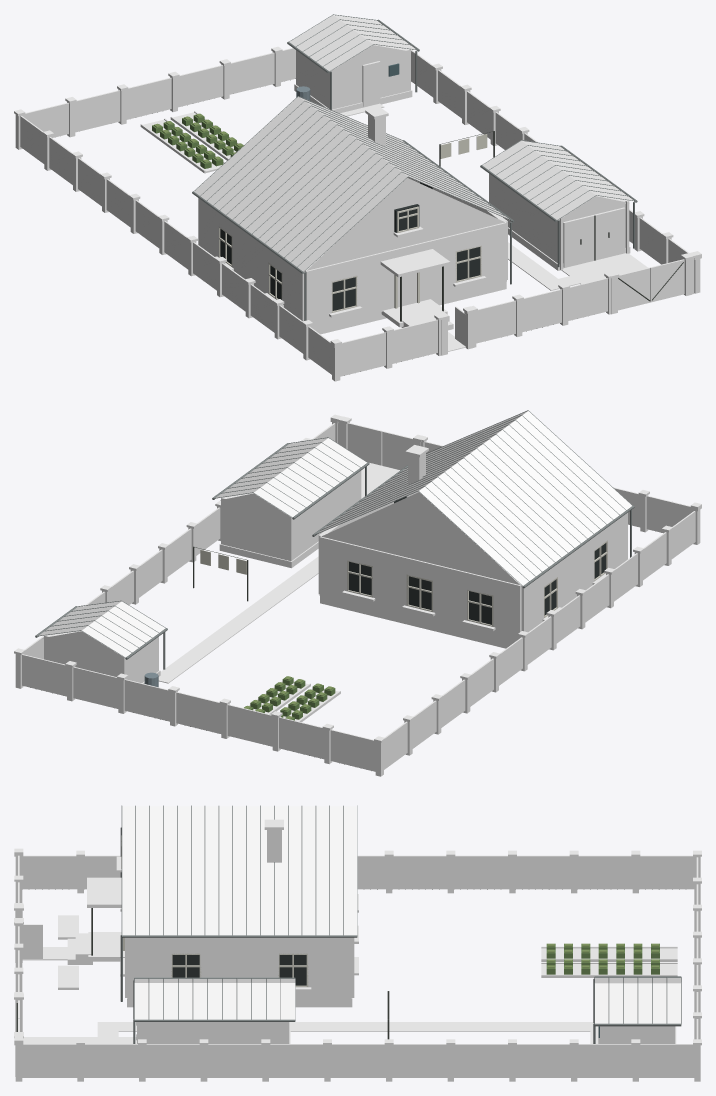
3 renders of one model, top to bottom at view 1: azimuth 30°, elevation 25°; view 2: azimuth 150°, elevation 25°; view 3: azimuth 270°, elevation 25°, orthographic. The views are drawn at different scales.
Visible parts, largest first — view 1: ParcelGeometry.028, SummerPlanting.026; view 2: ParcelGeometry.028, SummerPlanting.026; view 3: ParcelGeometry.028, SummerPlanting.026.
Boxes of the visible parts, <box> form: ParcelGeometry.028: <box>14,14,701,381</box>; SummerPlanting.026: <box>152,113,487,168</box>; ParcelGeometry.028: <box>14,410,701,776</box>; SummerPlanting.026: <box>200,549,335,720</box>; ParcelGeometry.028: <box>14,805,701,1081</box>; SummerPlanting.026: <box>546,943,659,974</box>.
Size of the model in its own units: 18.33 by 6.76 by 27.74.
